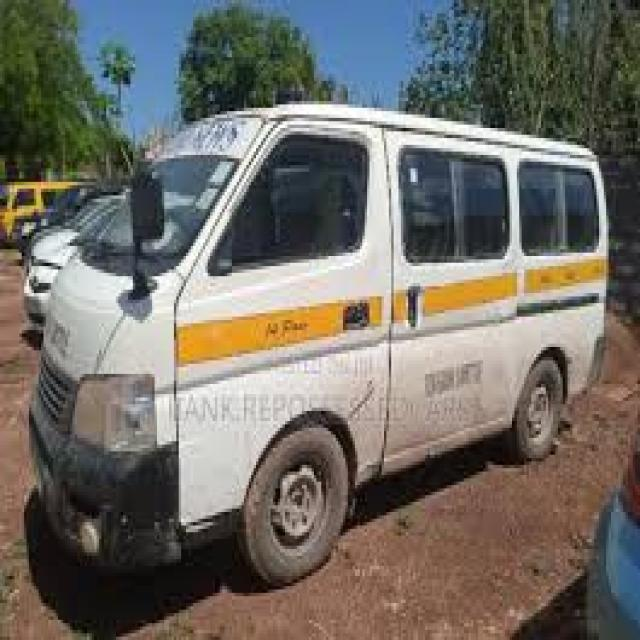matatu: (24, 52, 620, 620)
